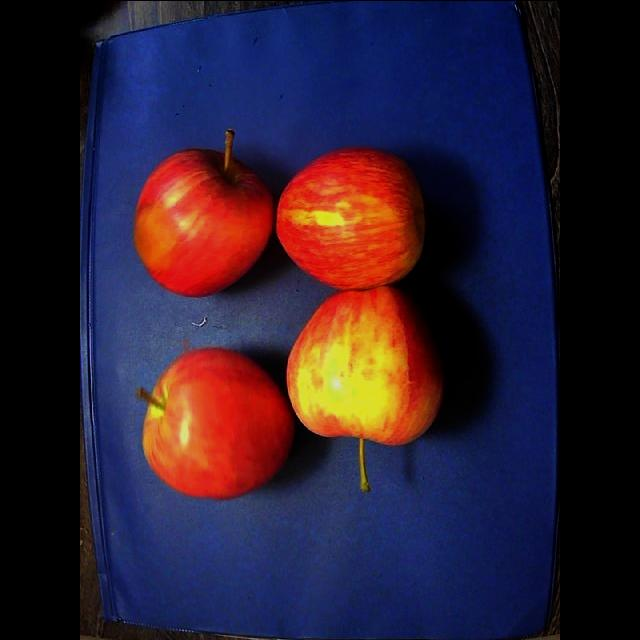manzana: (287, 286, 443, 490), (136, 348, 294, 499), (133, 130, 273, 296), (276, 147, 425, 289)
